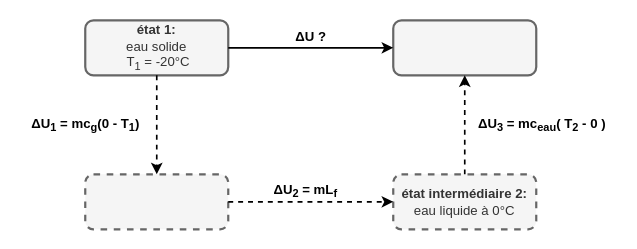
This 637x249 diagram has some shape labels left out. The shapes that lost their labels are listed below. From the top down, each one's centre as x and y in pixels, then its label:
[464,47]: état 2: eau liquide T 2 = 12°C
[156,201]: état intermédiaire 1: eau solide à 0°C
